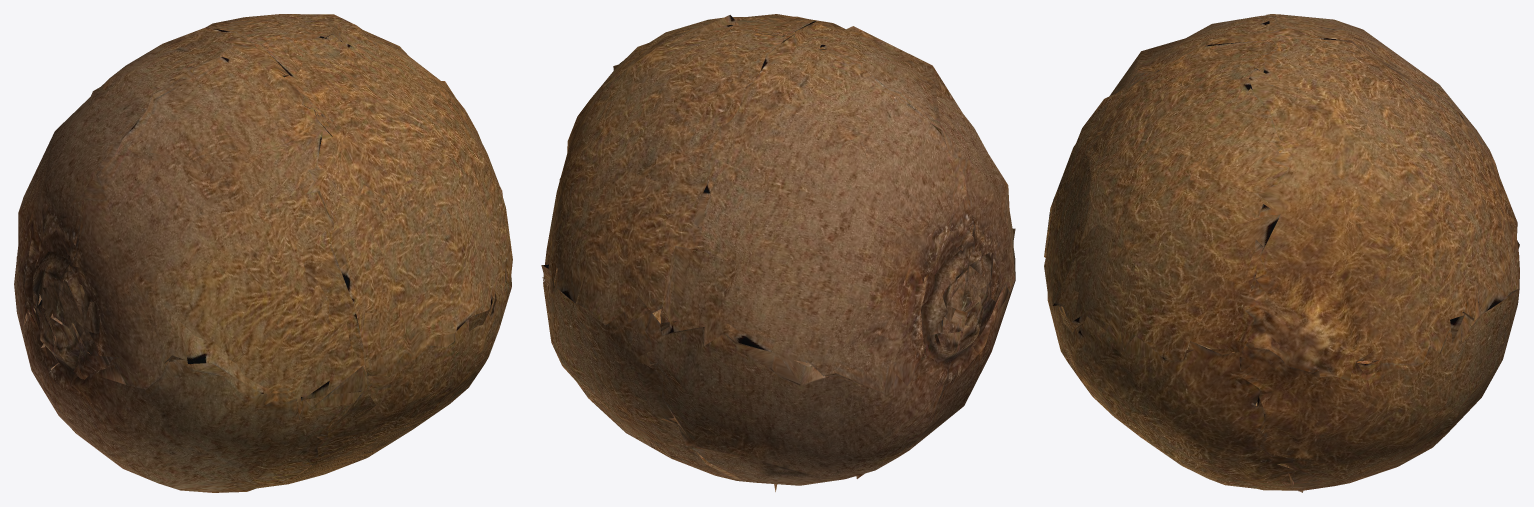
The model's file is kiwi.glb.
3 views of the same model, side by side, from view 1: azimuth 30°, elevation 25°; view 2: azimuth 150°, elevation 25°; view 3: azimuth 270°, elevation 25° (orthographic). The views are drawn at different scales.
Parts seen in each view (by area): view 1: kiwi-fine, kiwi-coarse; view 2: kiwi-fine, kiwi-coarse; view 3: kiwi-fine, kiwi-coarse.
Part boxes in pixels (<box>): kiwi-fine: <box>14,14,512,492</box>; kiwi-coarse: <box>26,24,506,469</box>; kiwi-fine: <box>542,16,1015,491</box>; kiwi-coarse: <box>541,14,1015,453</box>; kiwi-fine: <box>1044,14,1519,492</box>; kiwi-coarse: <box>1044,16,1519,488</box>.
Bounding box in the file's own units: 1 × 1 × 1.
Materials: 1 (1 with a texture image).
